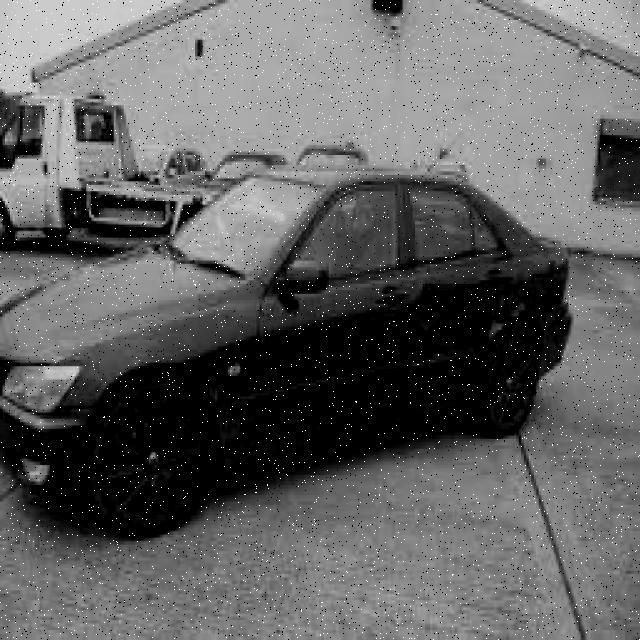car damage: (407, 279, 538, 358), (212, 378, 266, 459)
